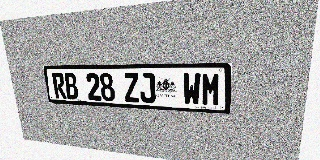2: (85, 73, 101, 101)
8: (99, 73, 115, 101)
B: (63, 73, 79, 99)
J: (139, 73, 156, 103)
M: (201, 73, 221, 106)
R: (52, 73, 67, 99)
W: (183, 73, 201, 106)
Z: (123, 73, 140, 102)
